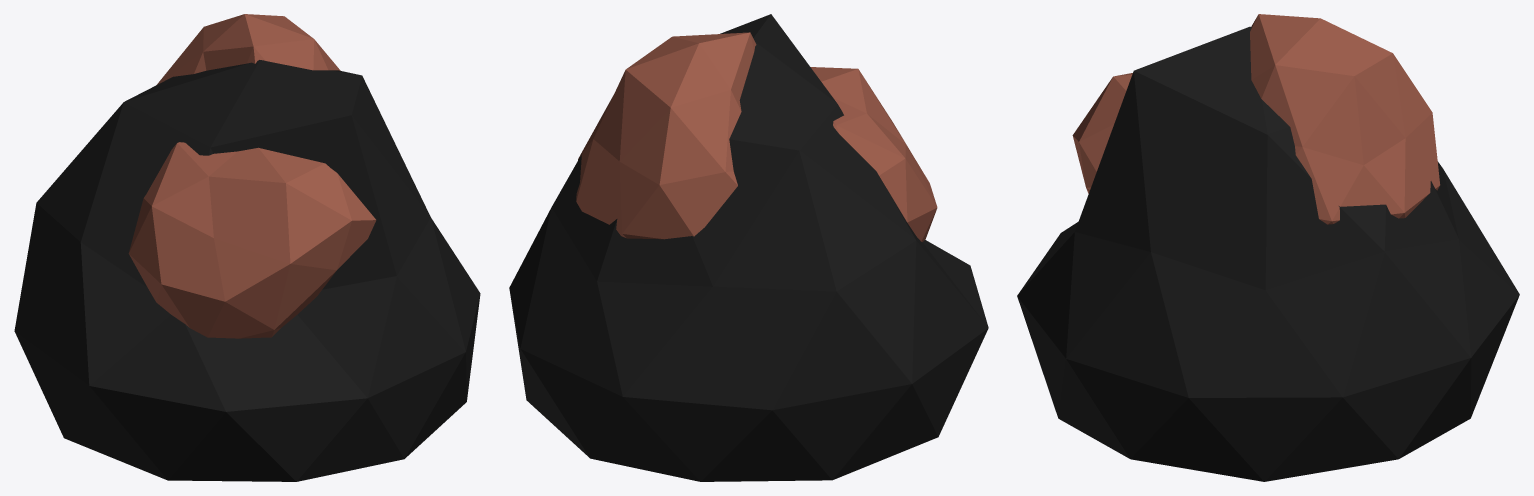
File: Rock.fbx
3 renders of one model, left to right at view 1: azimuth 30°, elevation 25°; view 2: azimuth 150°, elevation 25°; view 3: azimuth 270°, elevation 25°, orthographic. The views are drawn at different scales.
Visible parts, largest first — view 1: Icosphere, Icosphere.001, Icosphere.002; view 2: Icosphere, Icosphere.002, Icosphere.001; view 3: Icosphere, Icosphere.002, Icosphere.001.
Boxes of the visible parts, bbox=[...] form: Icosphere: bbox=[14, 60, 480, 481]; Icosphere.001: bbox=[128, 142, 376, 338]; Icosphere.002: bbox=[157, 14, 340, 84]; Icosphere: bbox=[509, 14, 988, 481]; Icosphere.002: bbox=[576, 32, 756, 239]; Icosphere.001: bbox=[810, 67, 937, 241]; Icosphere: bbox=[1017, 26, 1519, 481]; Icosphere.002: bbox=[1250, 14, 1440, 224]; Icosphere.001: bbox=[1072, 73, 1132, 193].
Size of the model in its own units: 188 by 172 by 197.
